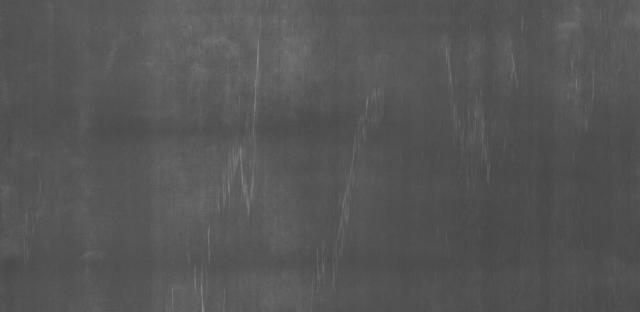silk_spot: (189, 25, 267, 219), (308, 80, 388, 240), (422, 42, 502, 162), (541, 15, 606, 128)
